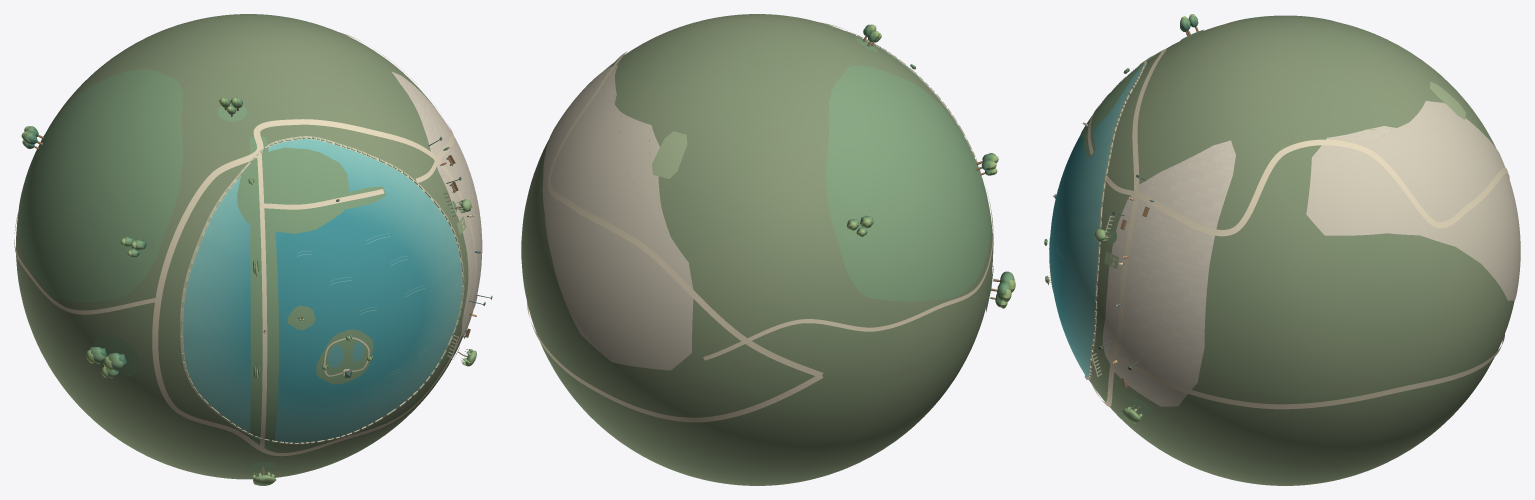
3 views of the same model, side by side, from view 1: azimuth 30°, elevation 25°; view 2: azimuth 150°, elevation 25°; view 3: azimuth 270°, elevation 25° (orthographic).
Parts seen in each view (by area): view 1: landscape (×11); view 2: landscape (×7); view 3: landscape (×8).
Part boxes in pixels (left/top/right/bottom): landscape (×11): left=14, top=14, right=482, bottom=485; landscape (×7): left=521, top=14, right=1015, bottom=485; landscape (×8): left=1044, top=14, right=1520, bottom=485.
Size of the model in its own units: 2.87 by 2.84 by 2.88.
